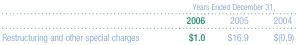table: (1, 0, 293, 42)
table column: (1, 0, 161, 42), (161, 0, 215, 42), (215, 0, 260, 42), (260, 0, 293, 42)
table column header: (1, 0, 293, 27)
table row: (1, 12, 293, 27), (1, 27, 293, 42), (1, 0, 293, 12)
table spanning cell: (161, 0, 293, 12)
